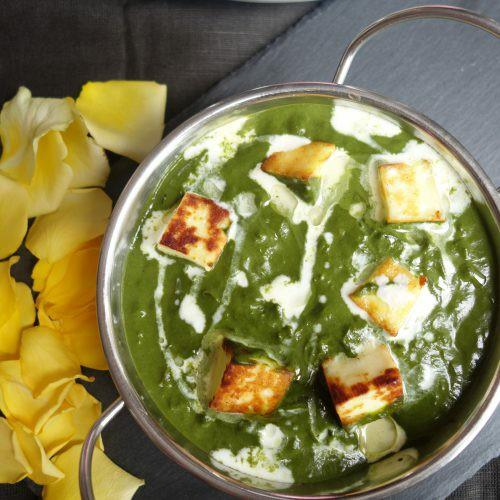PalakPaneer: (118, 95, 500, 486)
